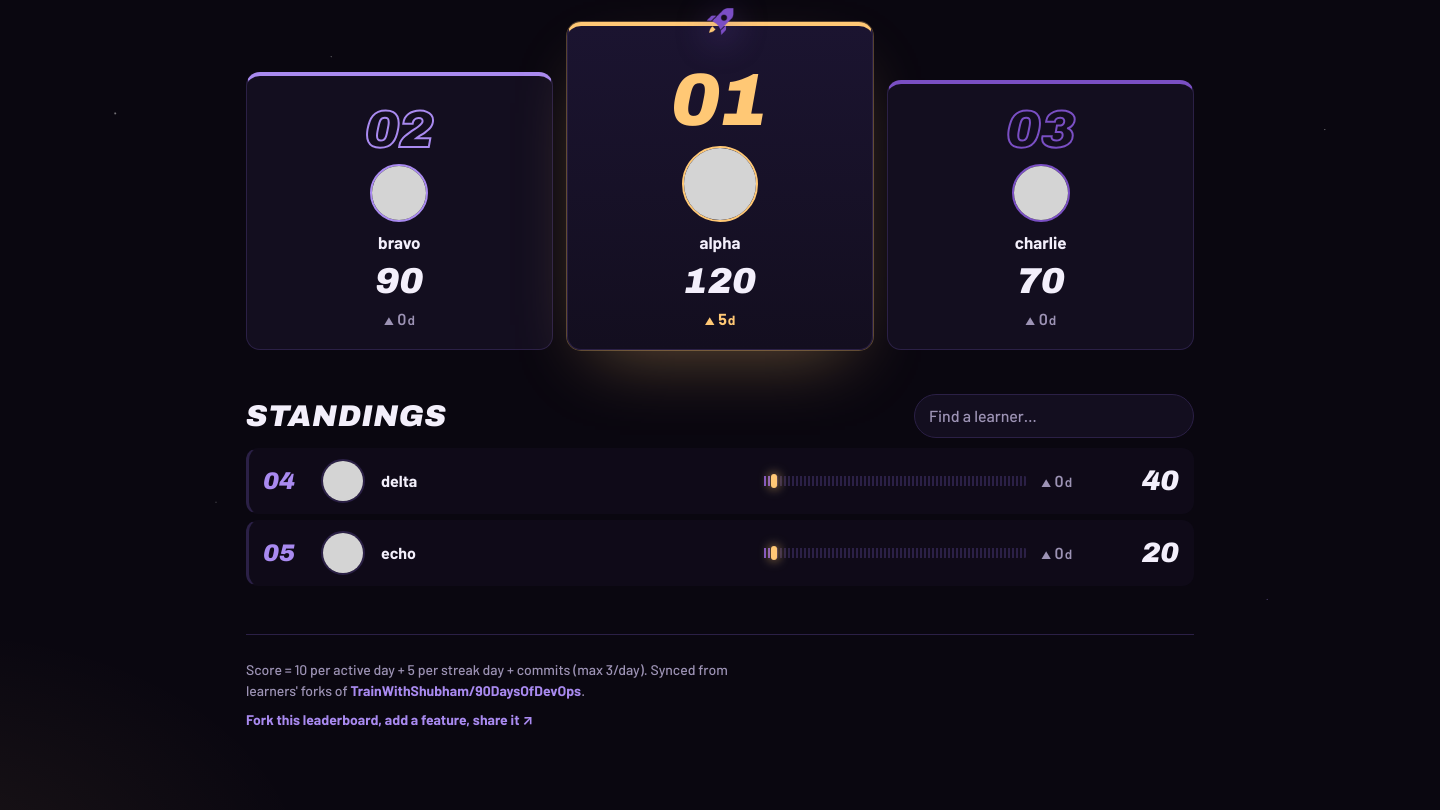
Scenario: filters the standings by login
(page scrolled)
Check: the element named "Full standings" is shown, box [246,394,1194,586]
Type "ech" into the search field labelled "Find a learner". click: [1054, 416]
box: [914,394,1194,438]
(page scrolled)
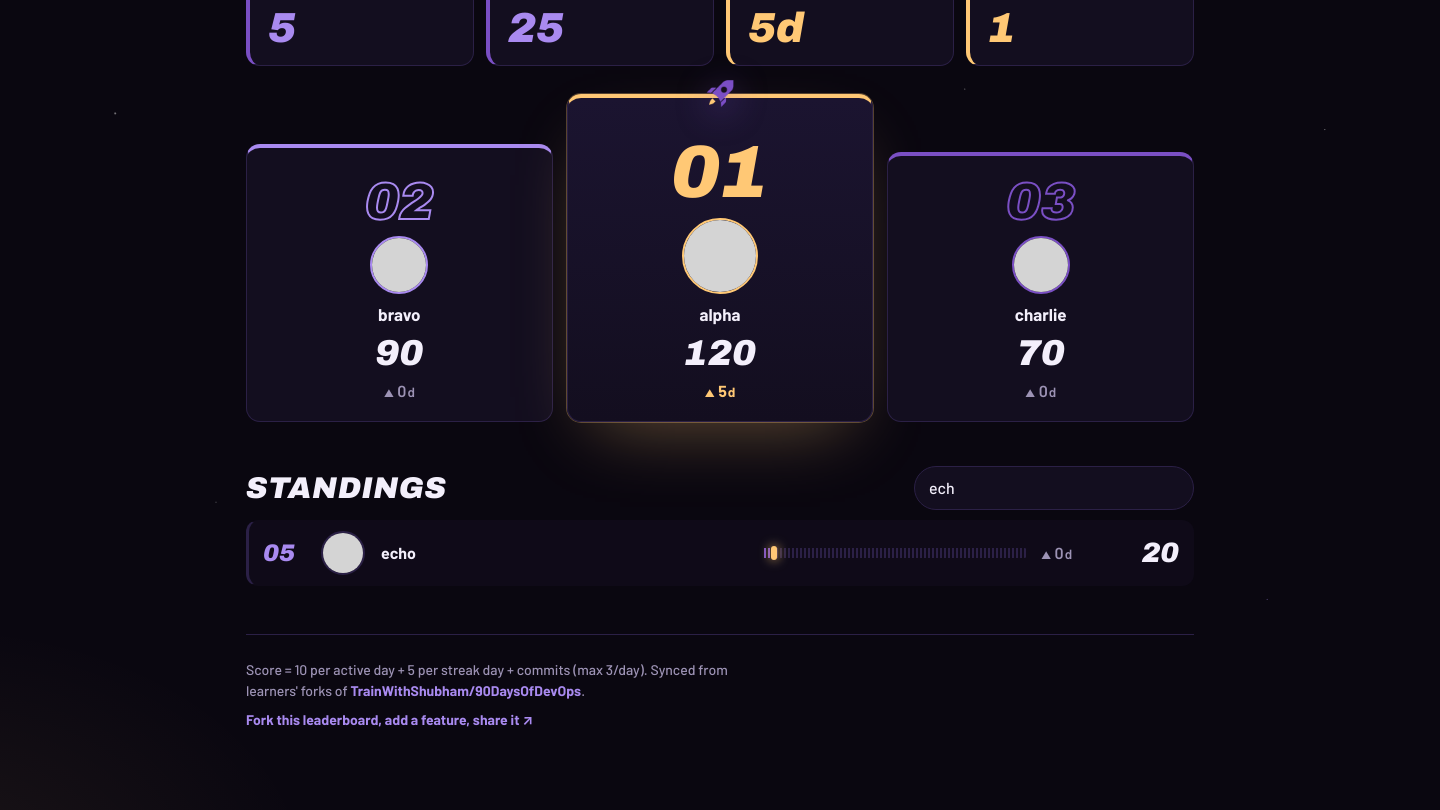
Check: the link "echo" is shown, box [381,543,416,562]
Check: the link "delta" is gone
